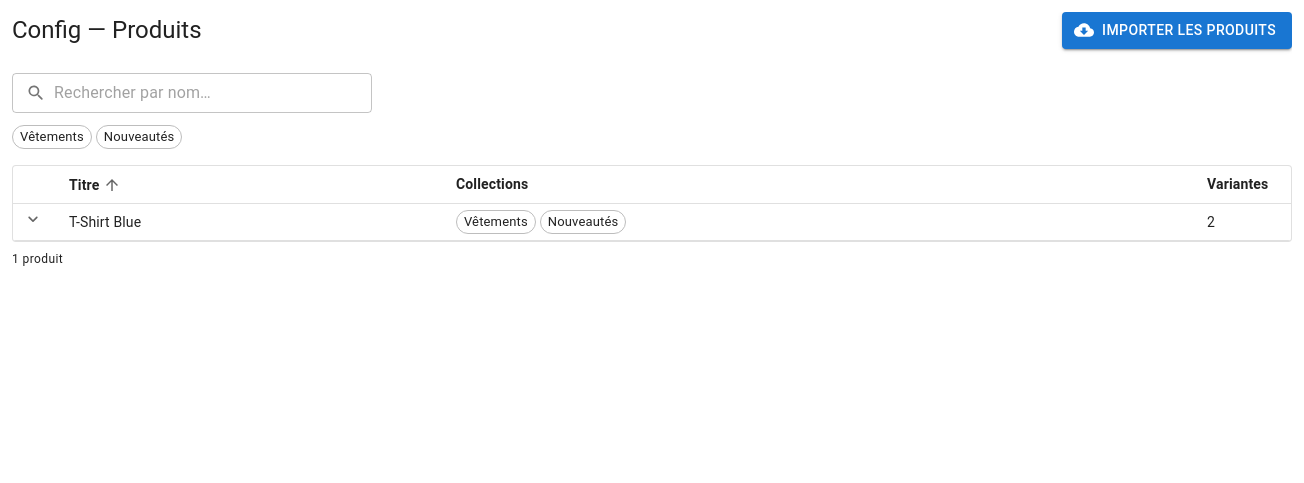
Test: ConfigProductsPage › shows error message when save fails
Click the text "T-Shirt Blue".
click(246, 222)  # box [53, 203, 440, 240]
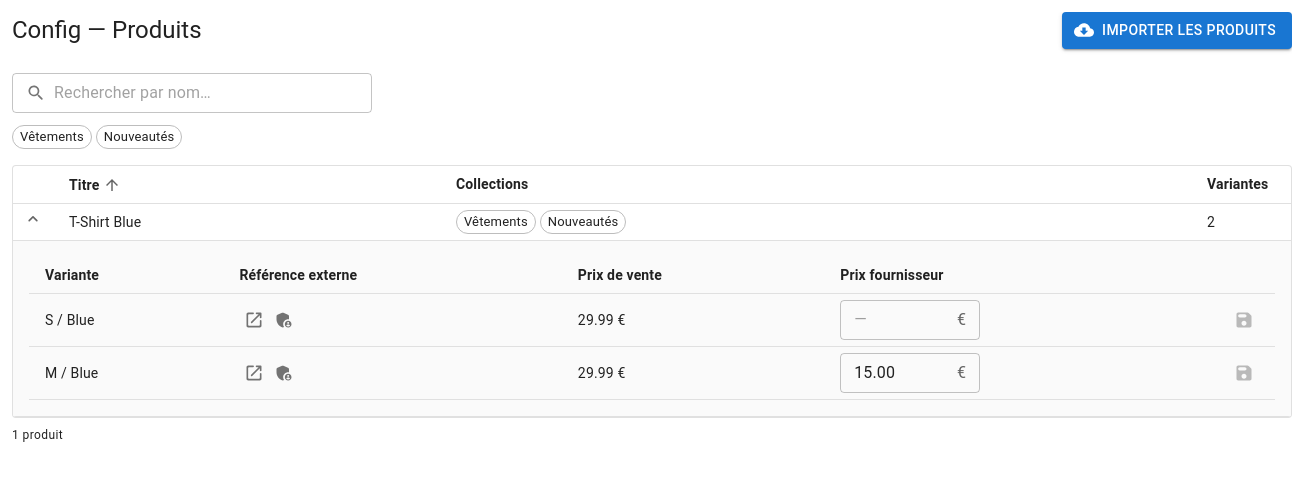
Type "5.00" into the number field with placeholder "—".
click(895, 320); type("5.00")  # box [840, 300, 949, 340]
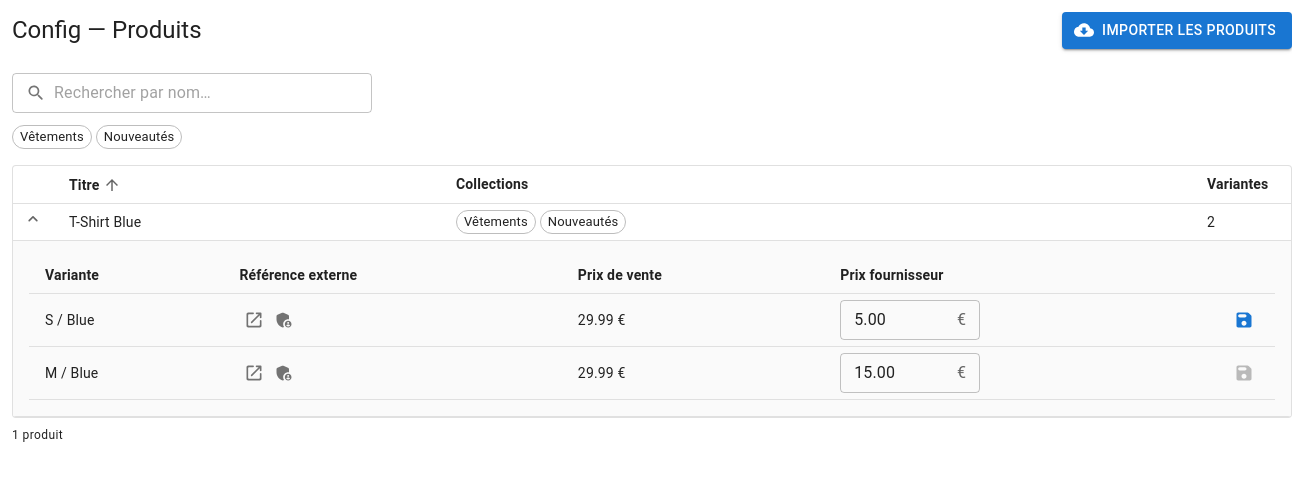
Click the button named "enregistrer le prix fournisseur" in the row of "S / Blue".
click(1244, 320)  # box [1229, 305, 1259, 335]
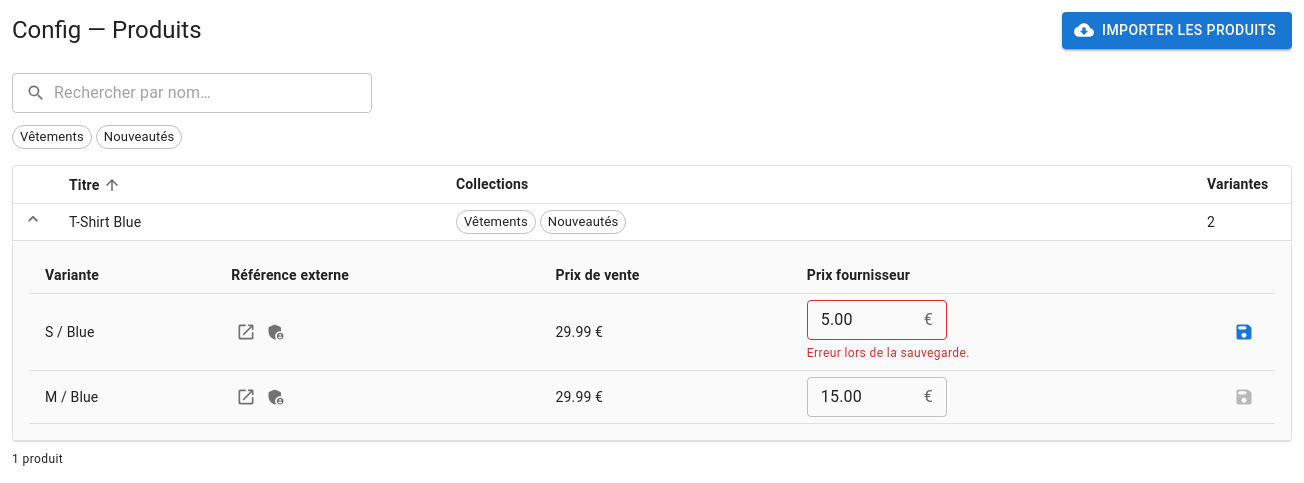
Expected: the text "Erreur lors de la sauvegarde." is shown, [807, 346, 970, 360]
